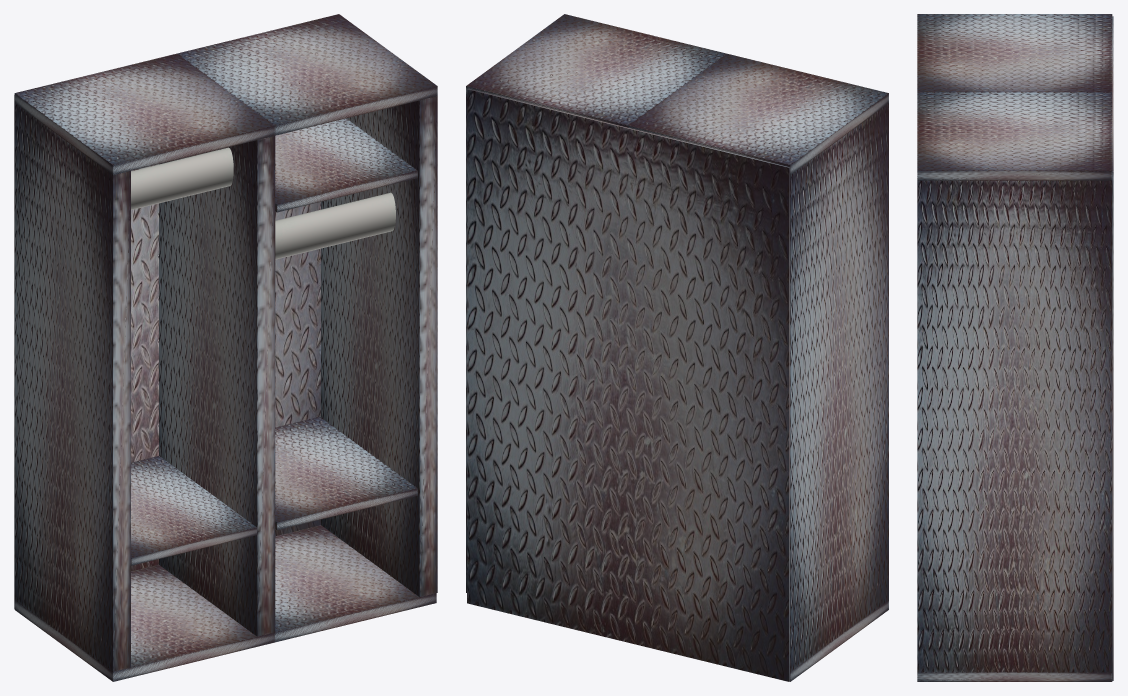
Rendered from estante.obj.
3 views of the same model, side by side, from view 1: azimuth 30°, elevation 25°; view 2: azimuth 150°, elevation 25°; view 3: azimuth 270°, elevation 25° (orthographic).
Parts seen in each view (by area): view 1: Box001, Box002, Box006, Box004, Box005, Box011, Box007, Box003, Box009, Box010, Box008, Cylinder002 (+1 smaller); view 2: Box011, Box001, Box004, Box005, Box003, Box006; view 3: Box006, Box005, Box004, Box007, Box011.
Part boxes in pixels (x1,y1,x2,y2): Box001: (14,103,130,671); Box002: (159,136,275,636); Box006: (321,96,437,597); Box004: (14,53,275,175); Box005: (177,14,437,135); Box011: (14,95,320,608); Box007: (274,525,436,642); Box003: (14,564,275,681); Box009: (275,416,417,529); Box010: (275,118,417,212); Box008: (131,456,256,565); Cylinder002: (275,192,395,259); Box011: (467,88,789,681); Box001: (790,103,888,671); Box004: (628,53,888,175); Box005: (466,14,726,127); Box003: (790,600,888,681); Box006: (466,96,467,592); Box006: (917,180,1112,672); Box005: (917,92,1112,180); Box004: (917,14,1112,92); Box007: (917,672,1112,681); Box011: (1112,16,1113,680).
Size of the model in its own units: 28.85 by 43.91 by 15.29.
2 materials, 2 textured.
